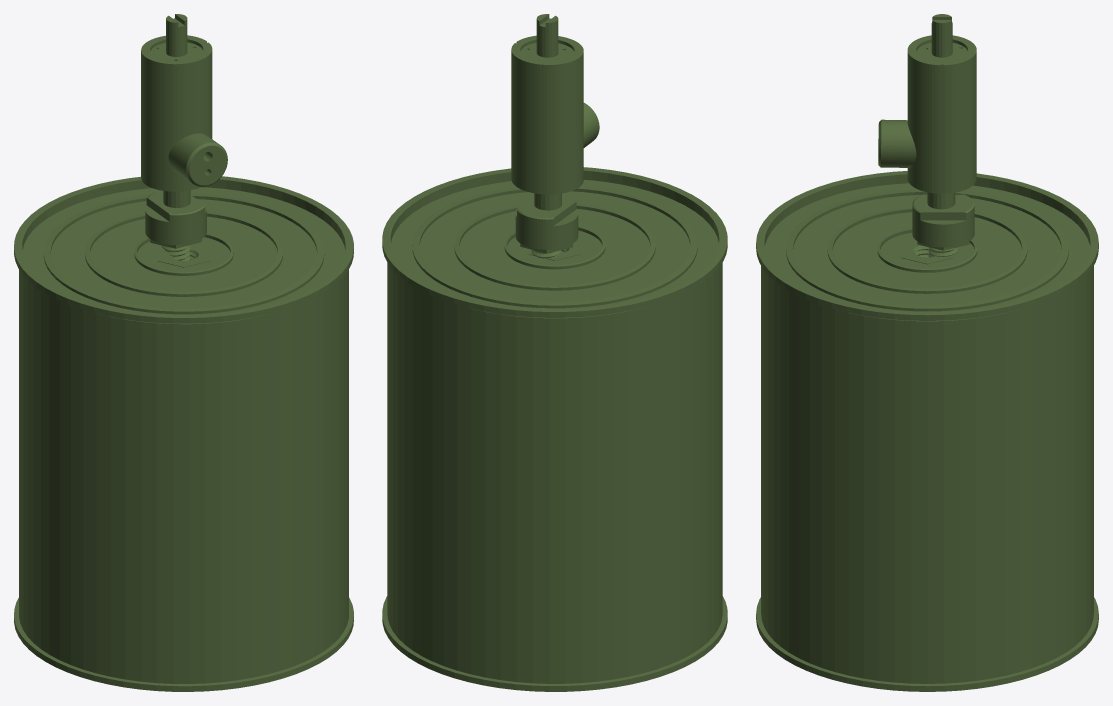
The model's file is m16-complete.glb.
The picture shows the model from 3 angles, left to right: view 1: azimuth 30°, elevation 25°; view 2: azimuth 150°, elevation 25°; view 3: azimuth 270°, elevation 25°; orthographic projection.
Size of the model in its own units: 0.103 by 0.1993 by 0.103.
